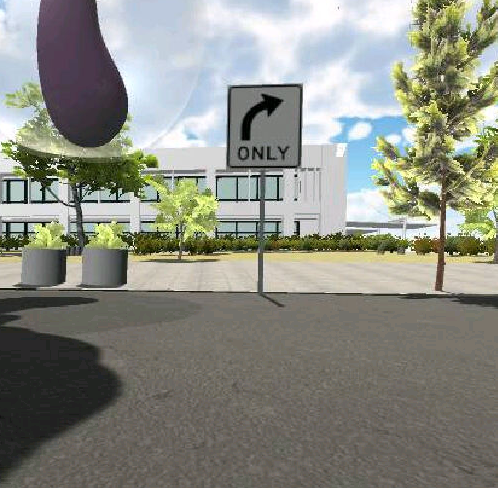arrow_right: (240, 93, 285, 141)
